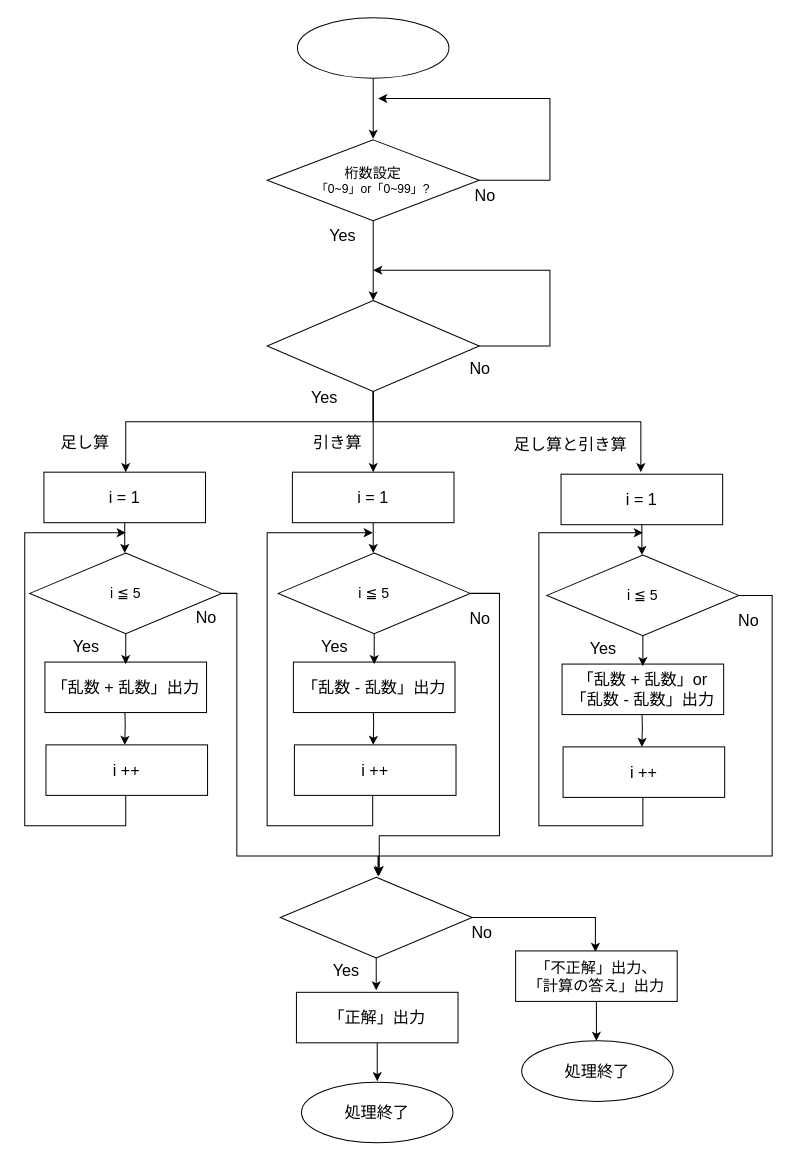
The diagram is 798 pixels wide and 1160 high, and some of its shapes have lost their labels. The shapes that lost their labels are listed below. From the top down, each one's centre as x and y in pixels, then its label:
At pixel 372 47: "処理開始".
At pixel 372 345: "演算設定 「足し算」「引き算」 少なくともどちらか チェックある?".
At pixel 375 917: "計算の正誤確認 「正解」?".
